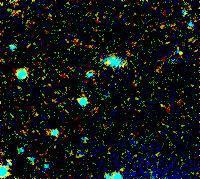star: (95, 49, 125, 79)
